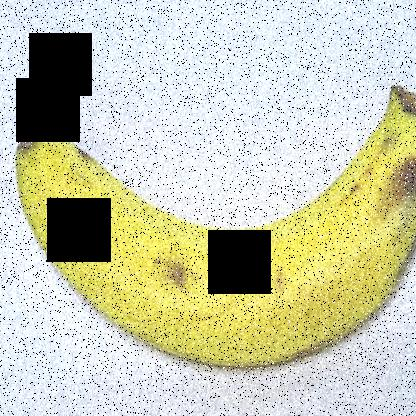freshripe: (4, 71, 415, 390)
